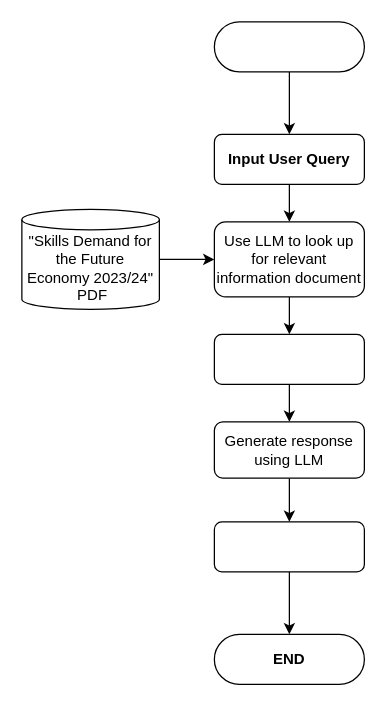
Some shapes in this 386 by 706 pixel diagram are drawn without their labels. The box of each missing label's shape, as (x1, y1, x2, y2) in pixels:
Display response: (213, 521, 364, 572)
Process query and scraped data: (213, 333, 364, 384)
Start: (213, 21, 364, 72)
